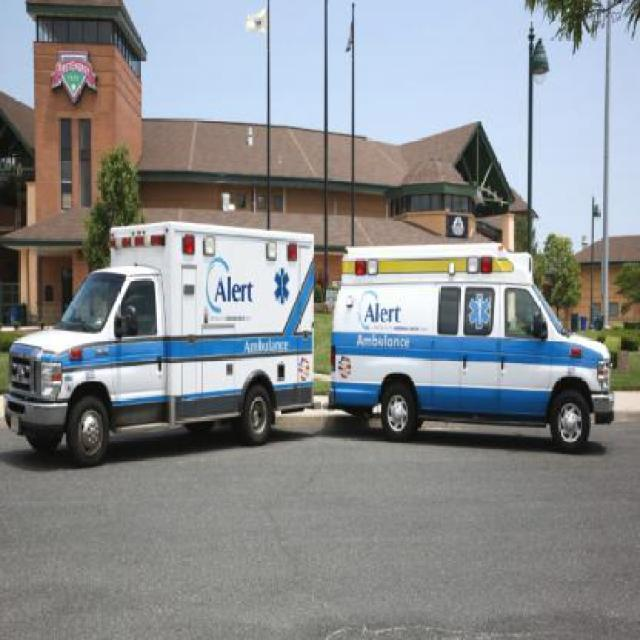Ambulance: (5, 202, 313, 462), (332, 197, 625, 447)
